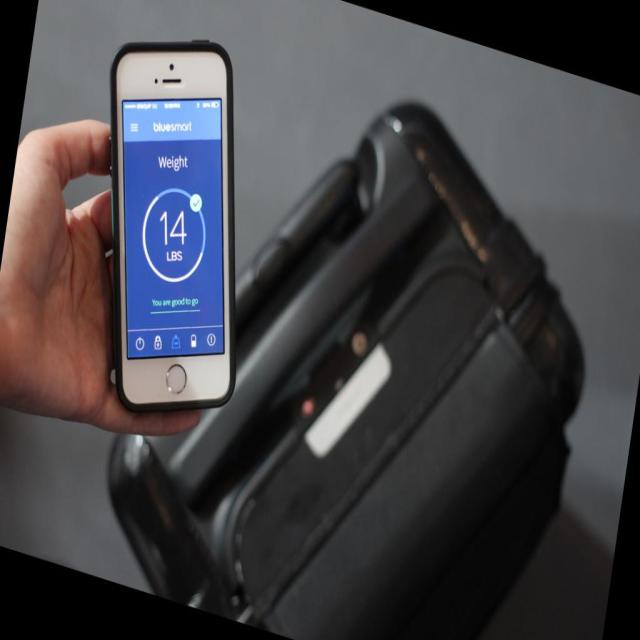handphone: (113, 38, 238, 408)
